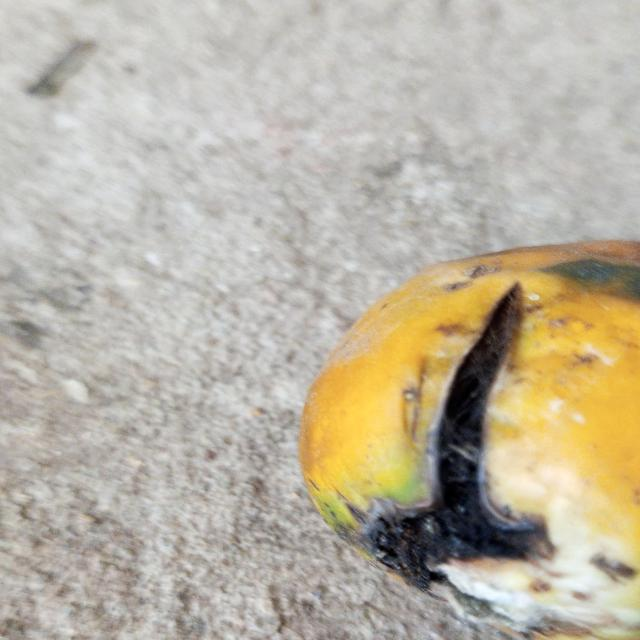damaged: (298, 240, 640, 640)
